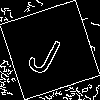J: (25, 25, 68, 78)
